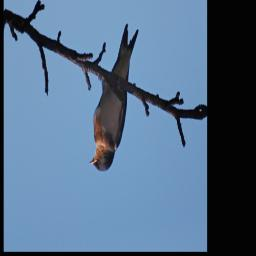Swallow: (81, 21, 148, 175)
